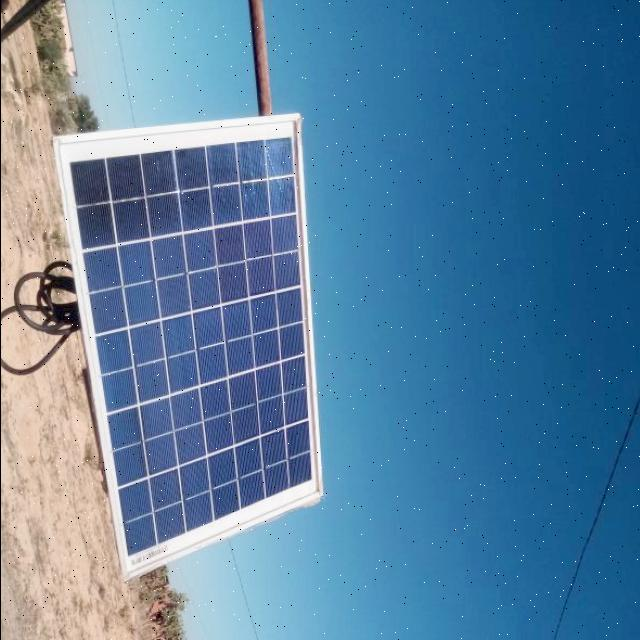Normal Solar Panel: (50, 116, 322, 576)
